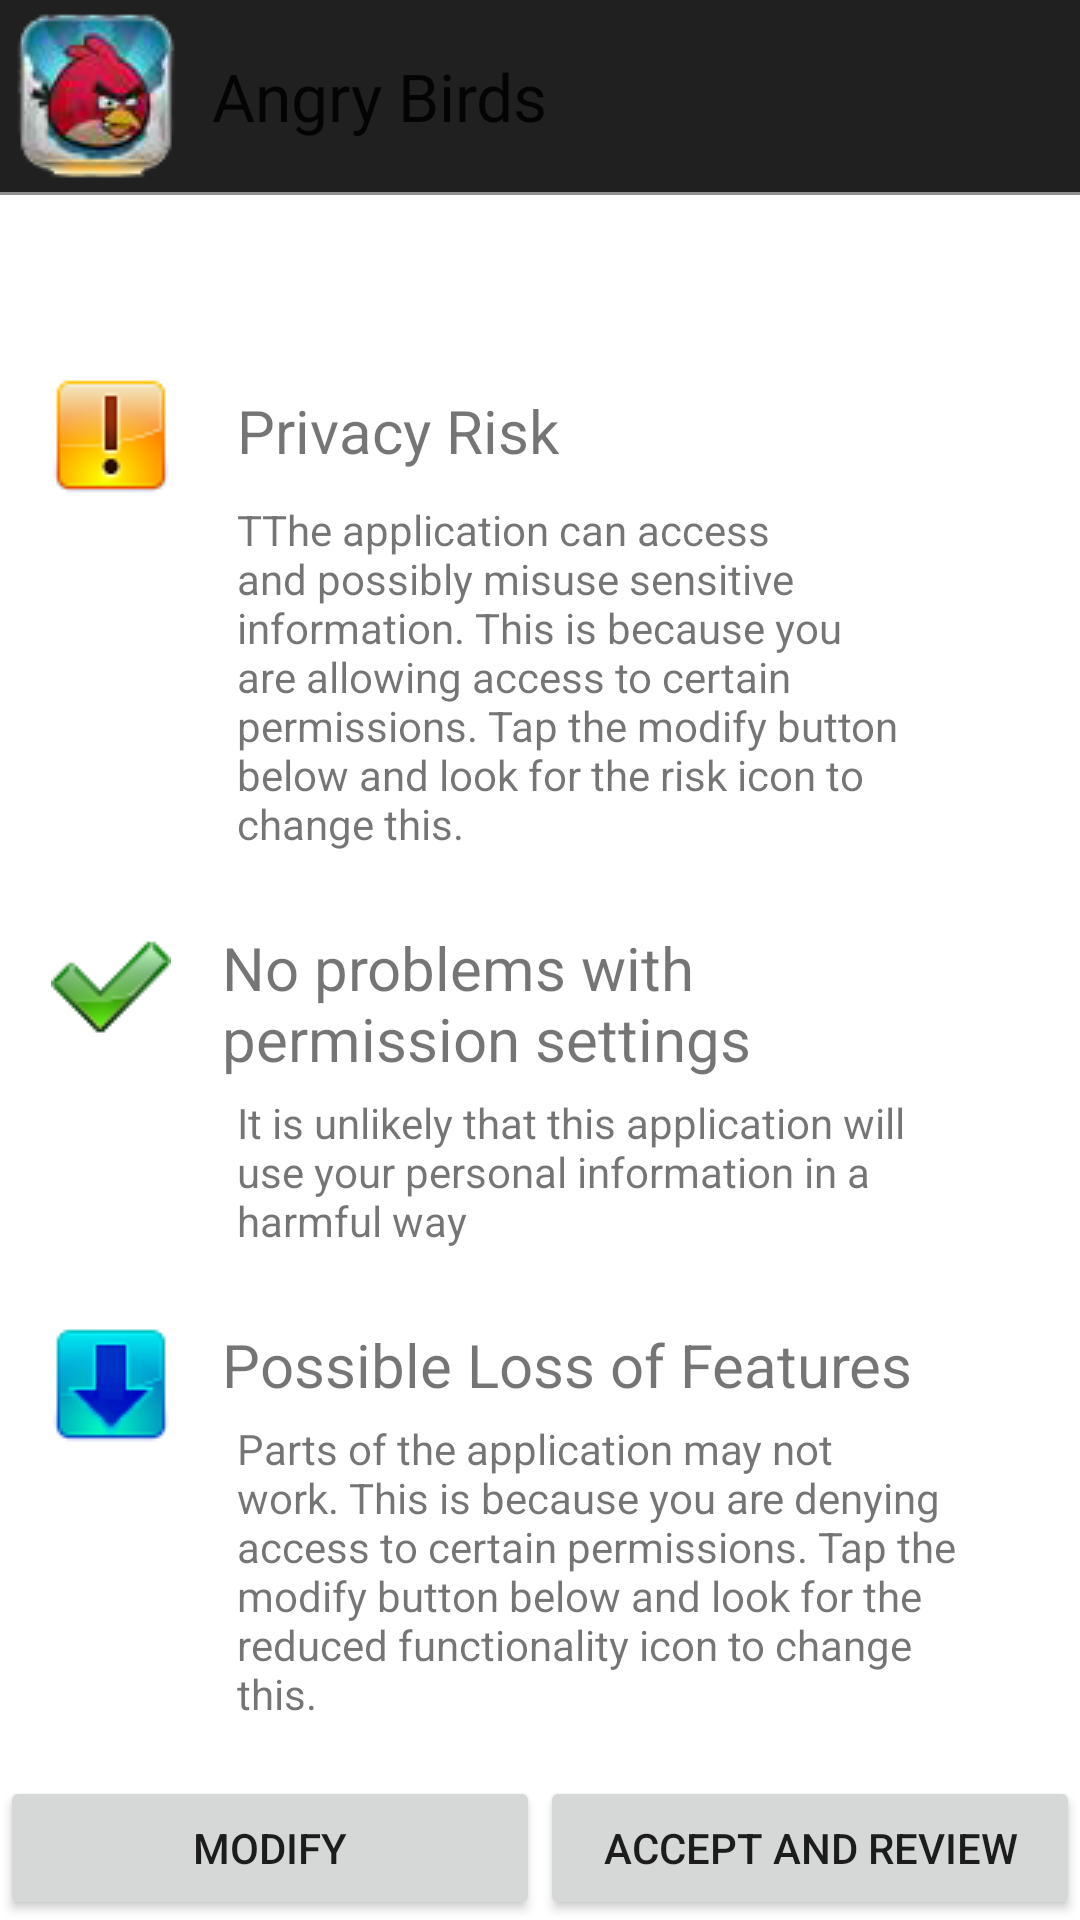

Icon bounding boxes for this 1080 × 1920 phone screenshot, format (x1, y1, x2, y2):
check: (51, 941, 171, 1033)
warn: (55, 380, 167, 491)
